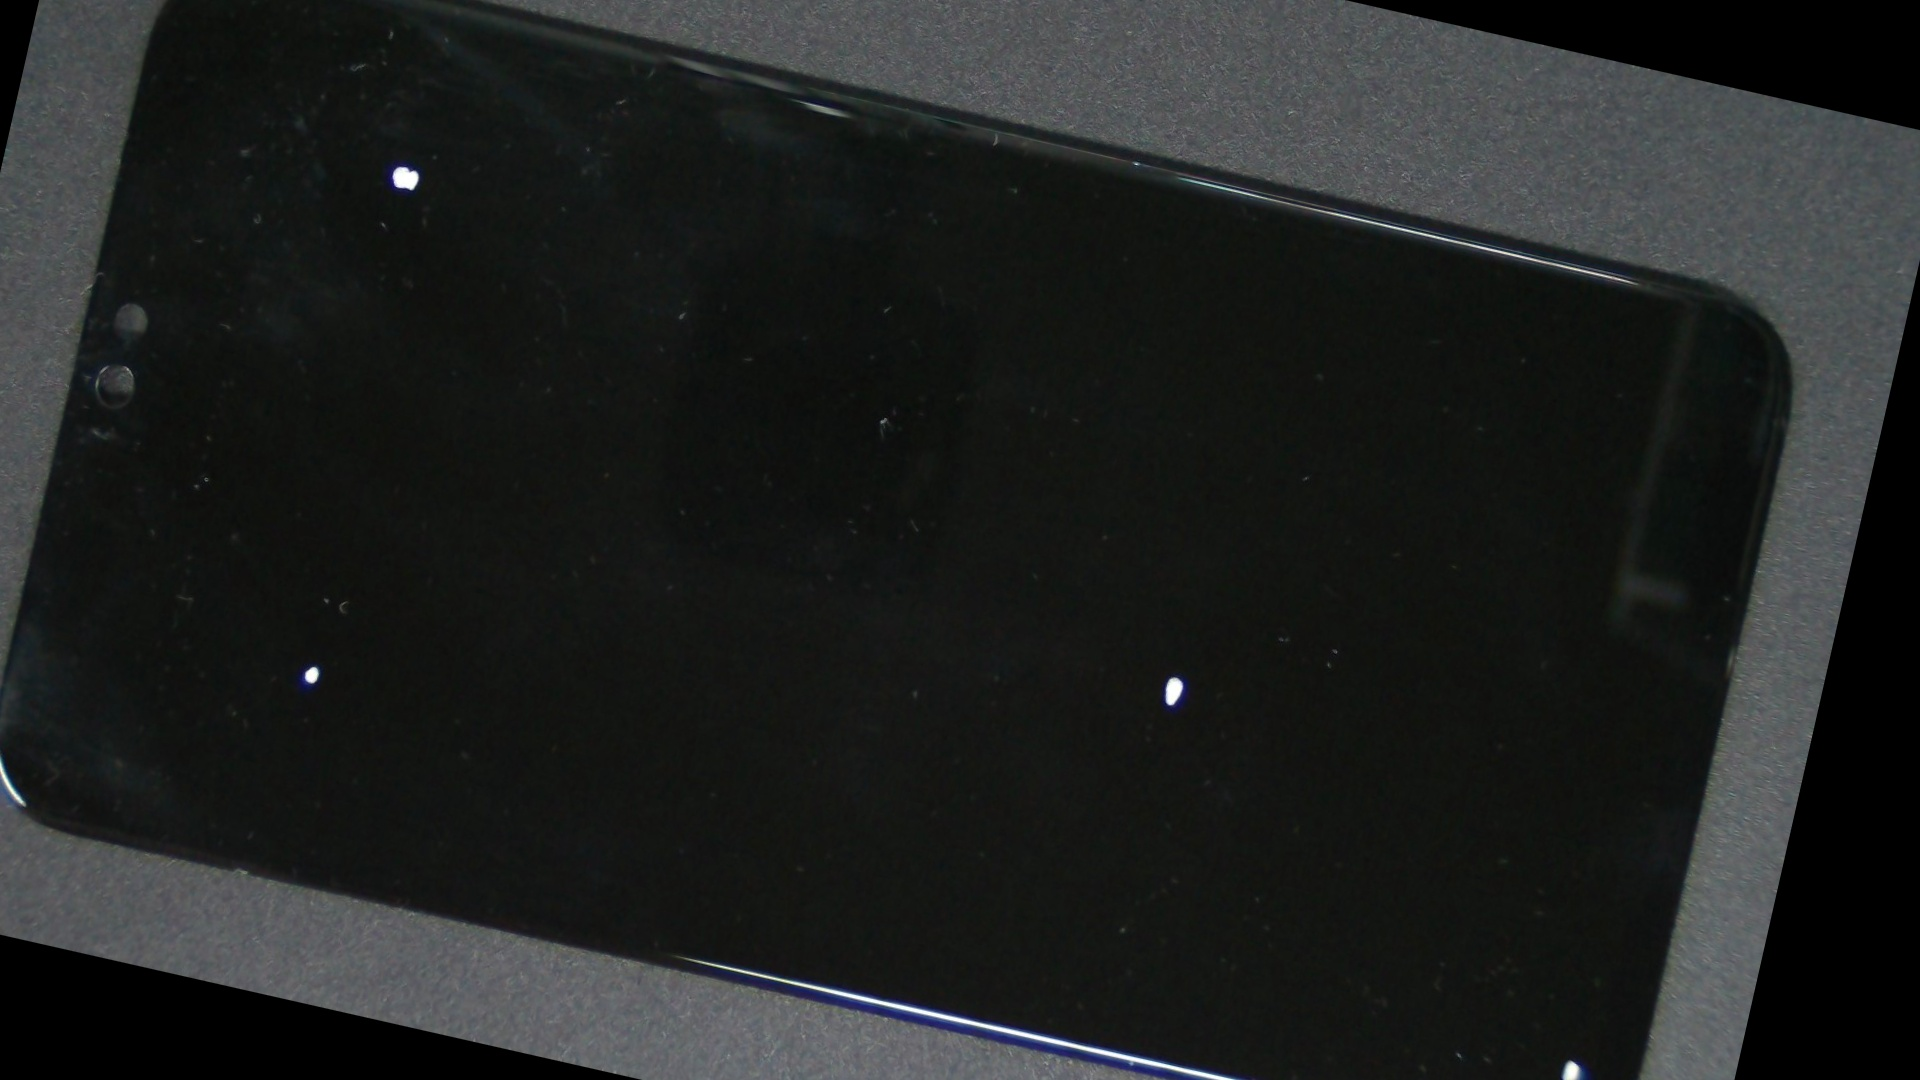oil: (485, 198, 1865, 1080), (678, 388, 1840, 1080), (41, 193, 617, 1035), (175, 0, 642, 389)
